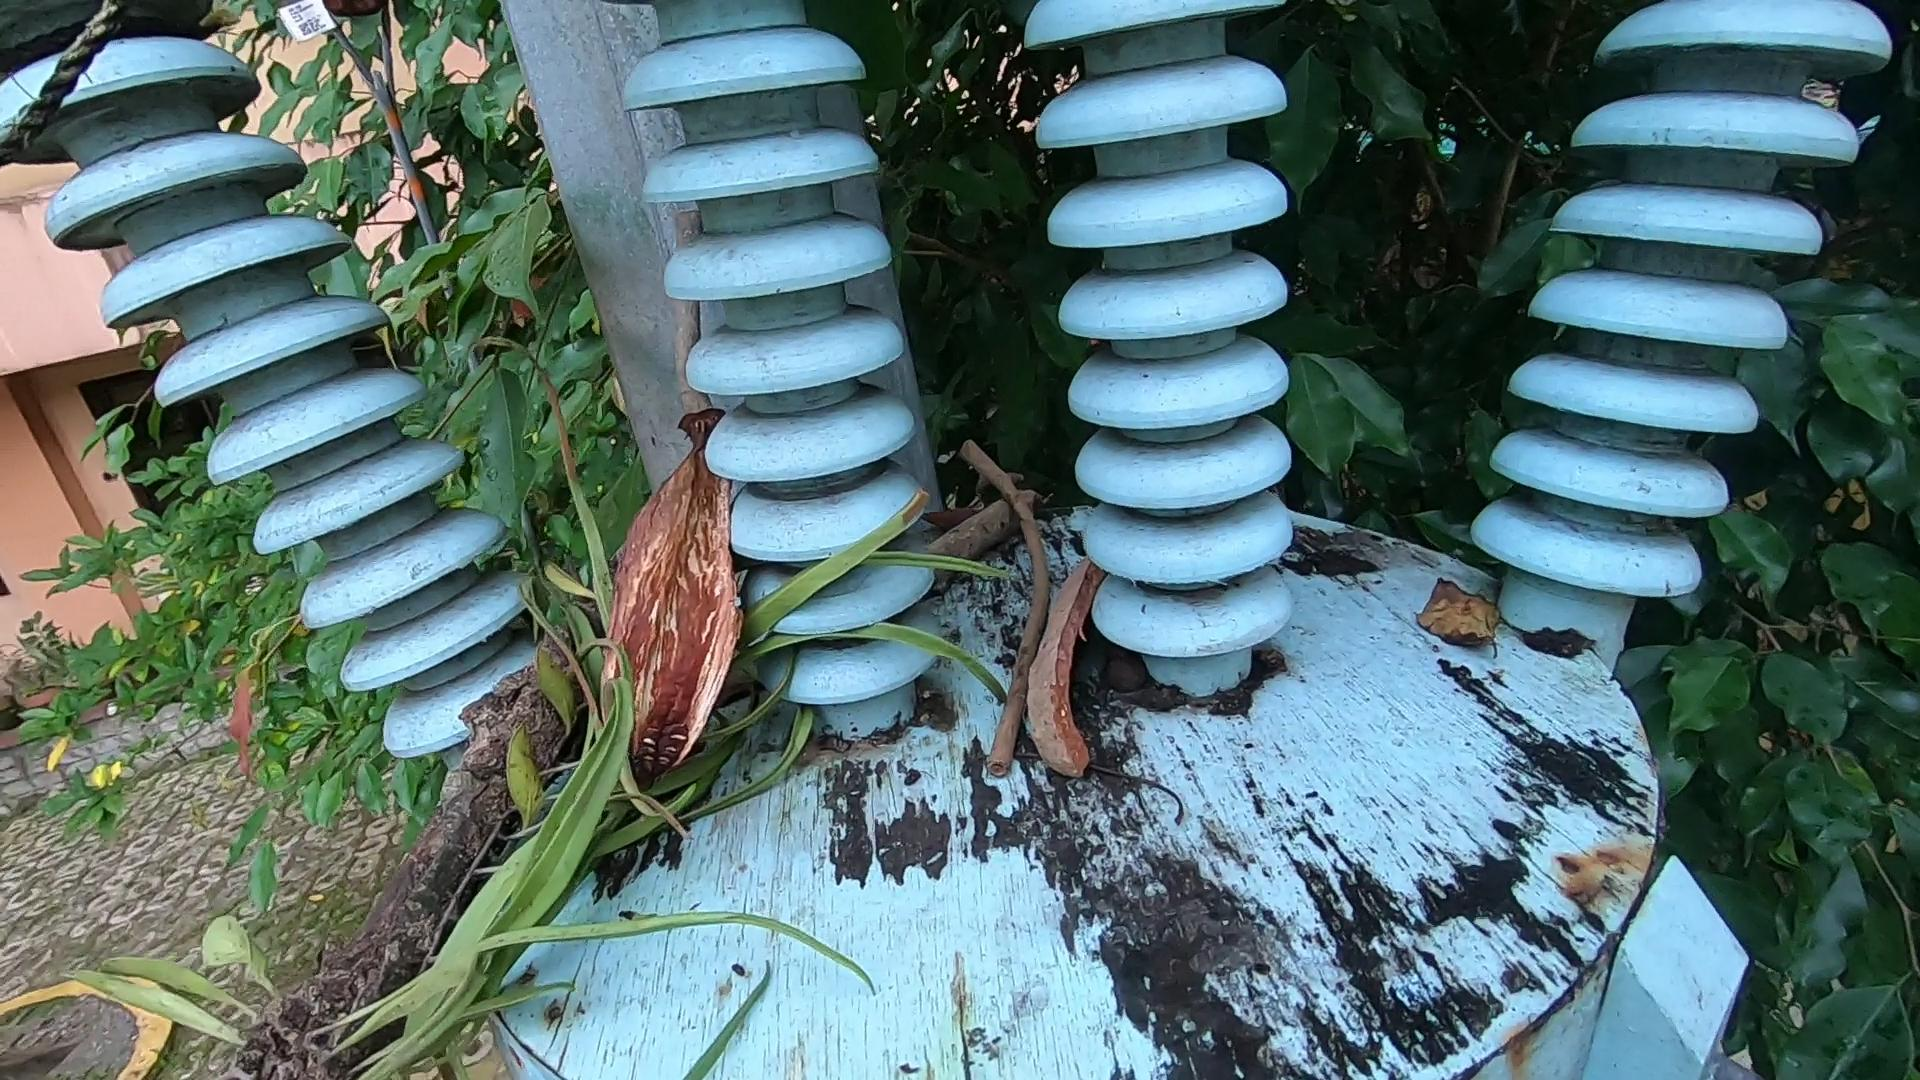branch with leaves: (264, 505, 1000, 1071)
leaf: (1422, 576, 1509, 686)
mahogany fruit: (591, 425, 812, 829), (1031, 553, 1191, 857)
tree branch: (956, 436, 1035, 800), (670, 207, 723, 467)
